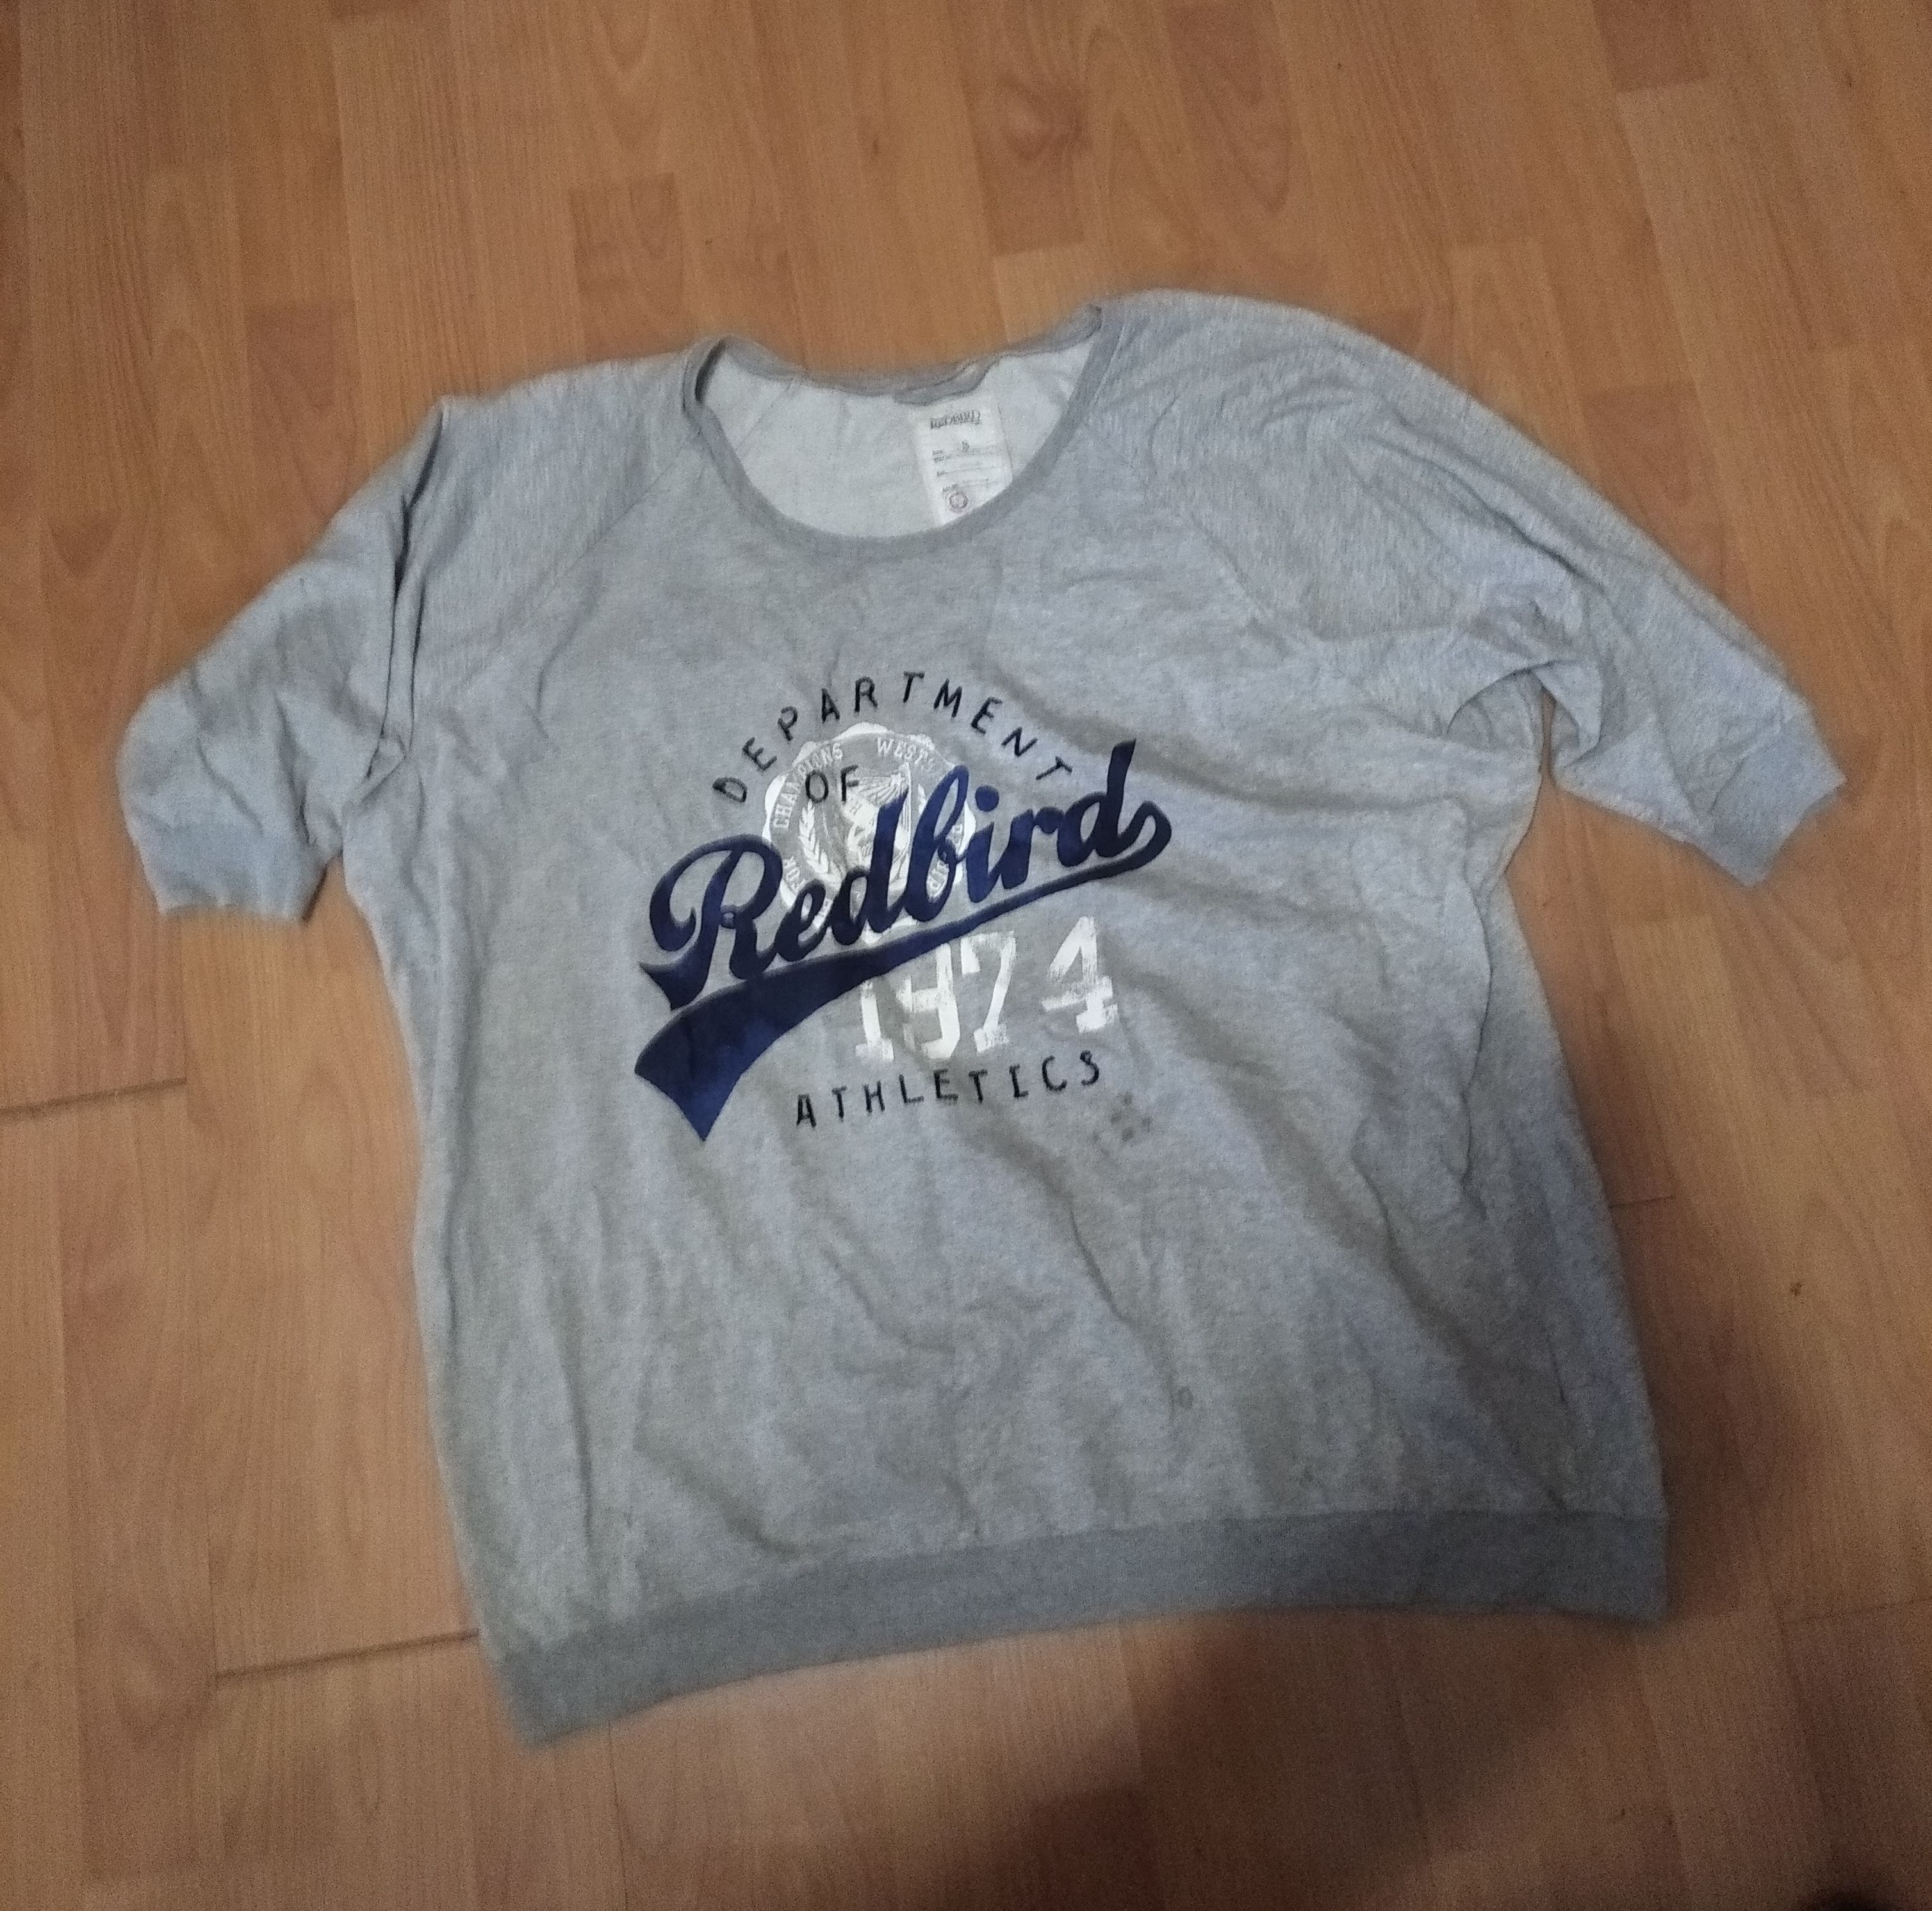clothes: (123, 282, 1850, 1662)
